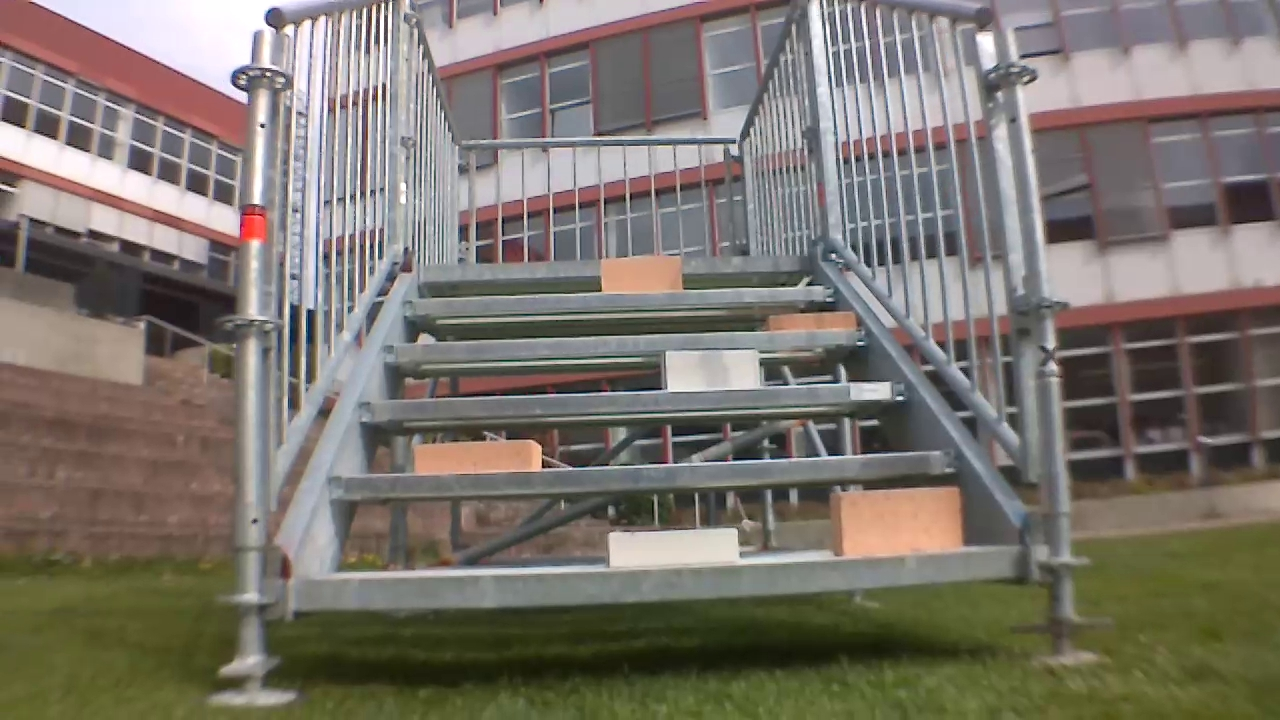brick: (833, 487, 968, 558), (610, 528, 746, 563), (414, 440, 544, 476), (664, 350, 759, 387), (595, 257, 681, 297), (764, 310, 857, 334)
edge: (298, 544, 1030, 620), (324, 446, 966, 503), (359, 382, 912, 425), (380, 328, 870, 366), (398, 283, 836, 317), (423, 253, 815, 280)
stairs: (230, 0, 1087, 656)
steps: (287, 249, 1036, 621)
